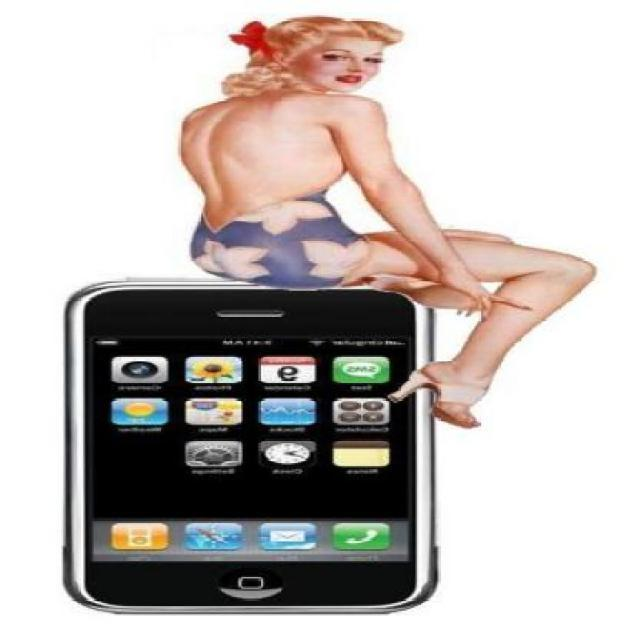phone: (64, 275, 442, 617)
